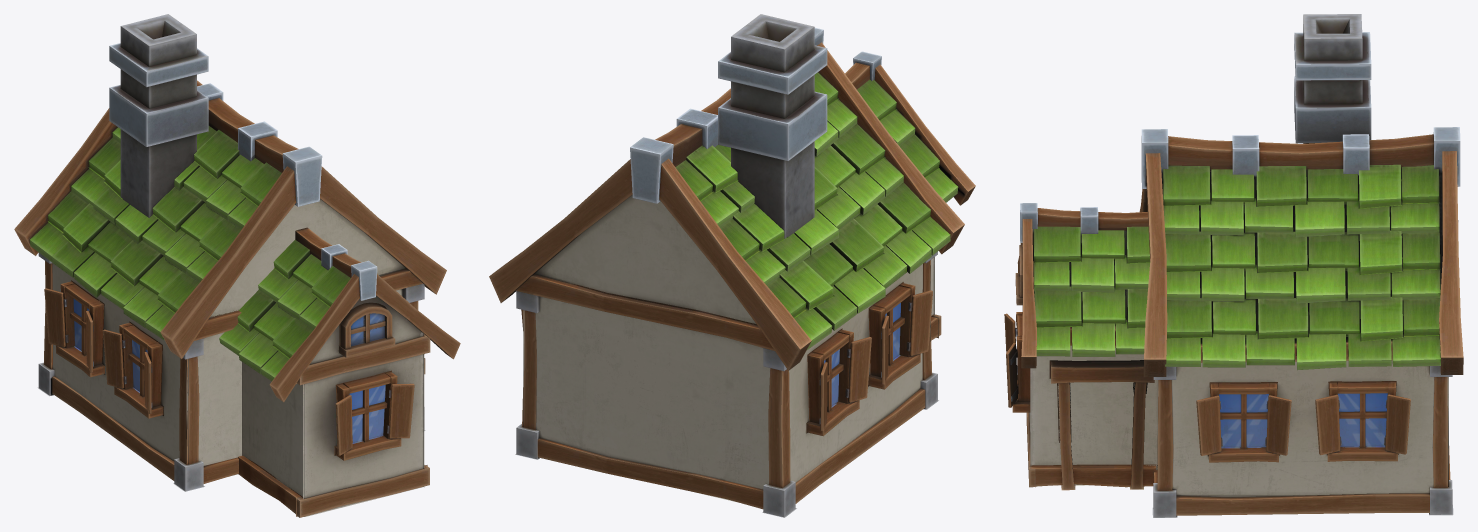
Rendered from House3.fbx.
The picture shows the model from 3 angles, left to right: view 1: azimuth 30°, elevation 25°; view 2: azimuth 150°, elevation 25°; view 3: azimuth 270°, elevation 25°; orthographic projection. The views are drawn at different scales.
Parts seen in each view (by area): view 1: House3; view 2: House3; view 3: House3.
Boxes of the visible parts, <box> form: House3: <box>14,14,460,517</box>; House3: <box>489,14,975,517</box>; House3: <box>1004,14,1463,517</box>.
Size of the model in its own units: 718 by 928 by 967.
